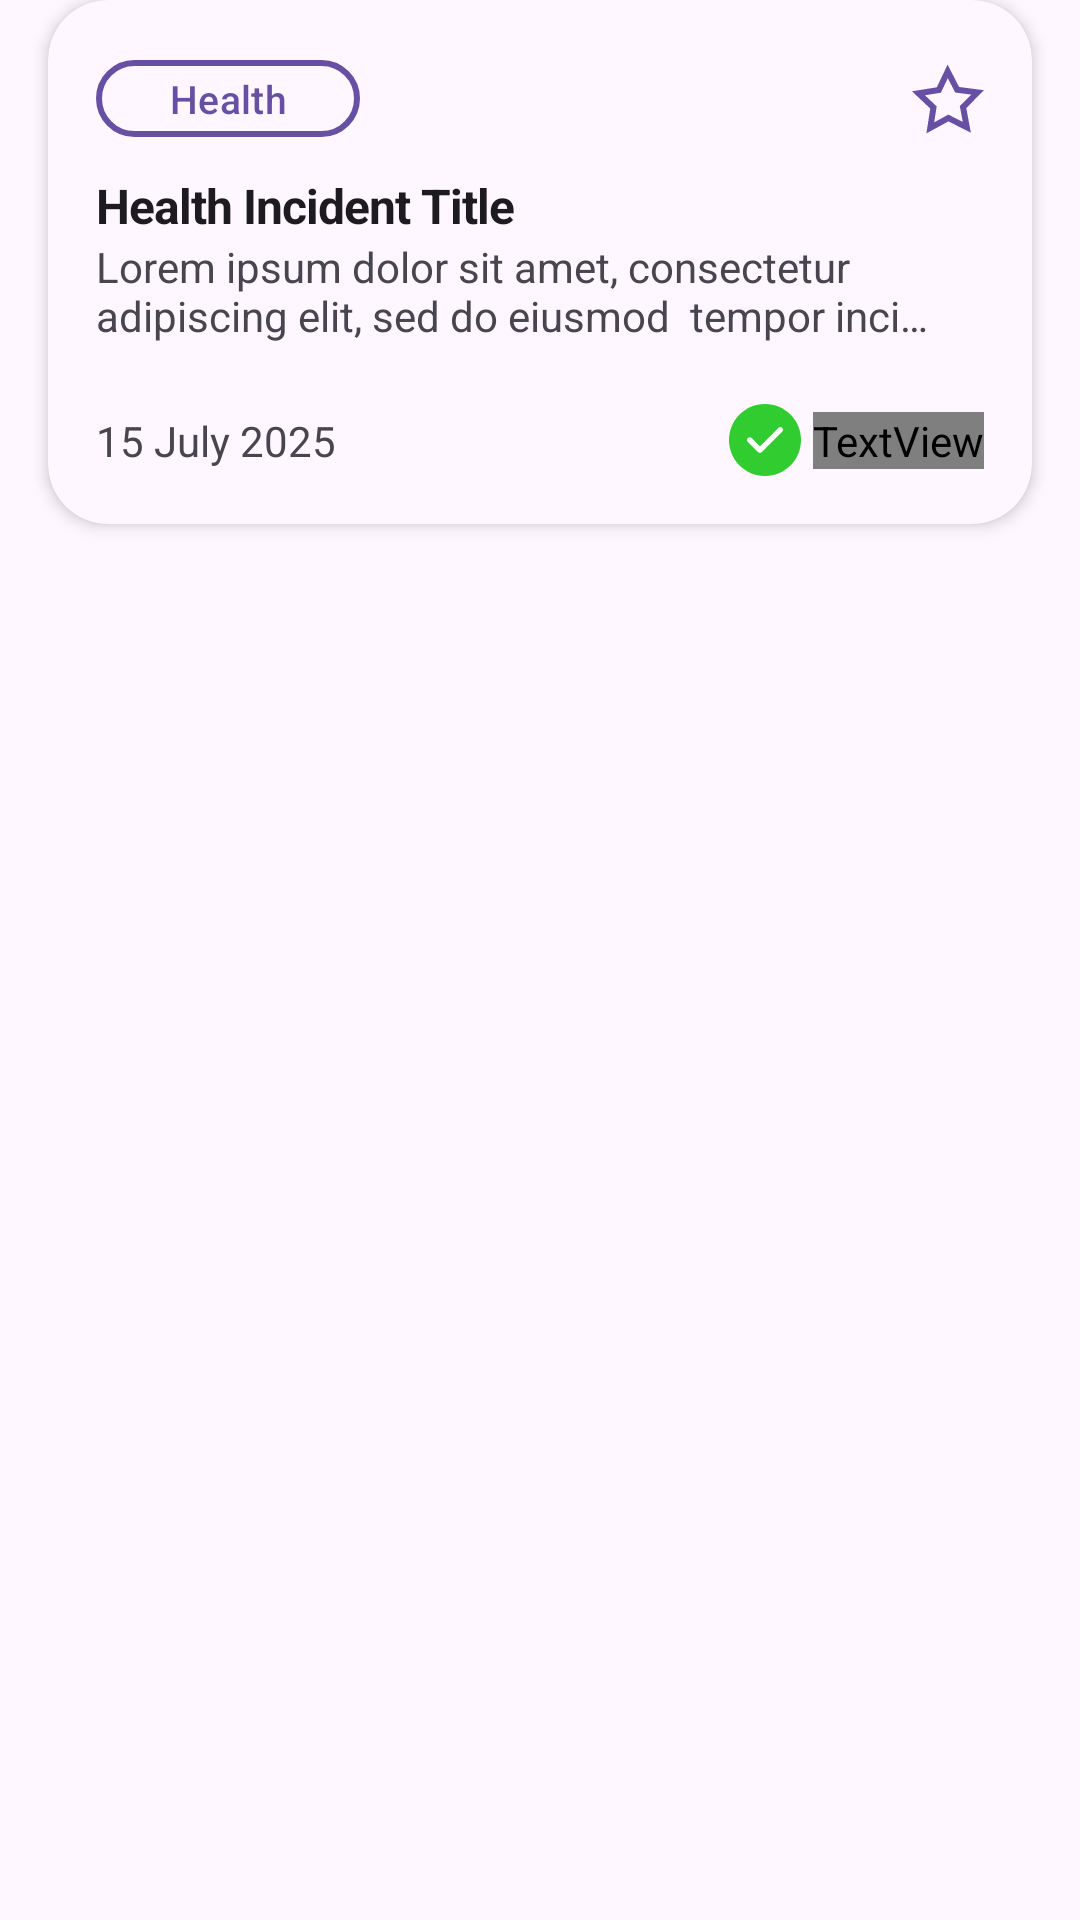

Screen size 1080px x 1920px. Icon name, then its center in pixels as [x,y]:
empty star: [948,99]
tick circle: [765,440]
